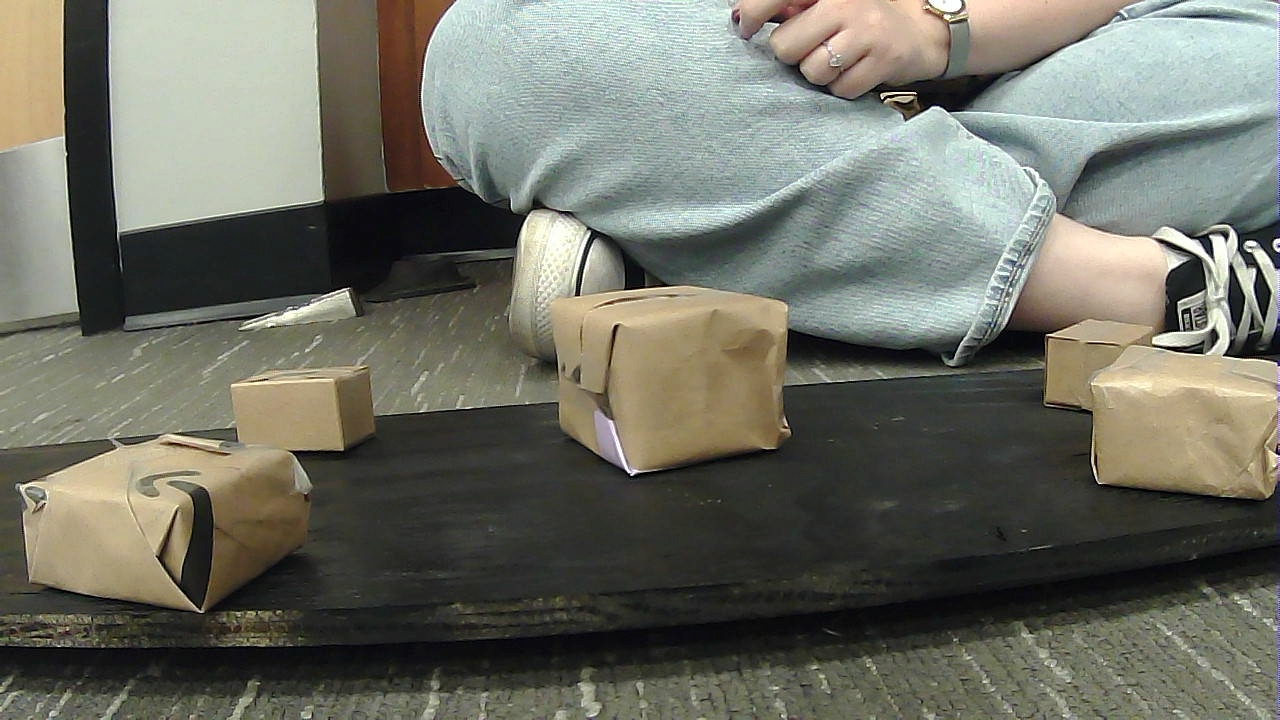package: (14, 409, 350, 592), (528, 273, 830, 472), (1080, 335, 1279, 511), (216, 364, 395, 465), (1040, 303, 1178, 412)
